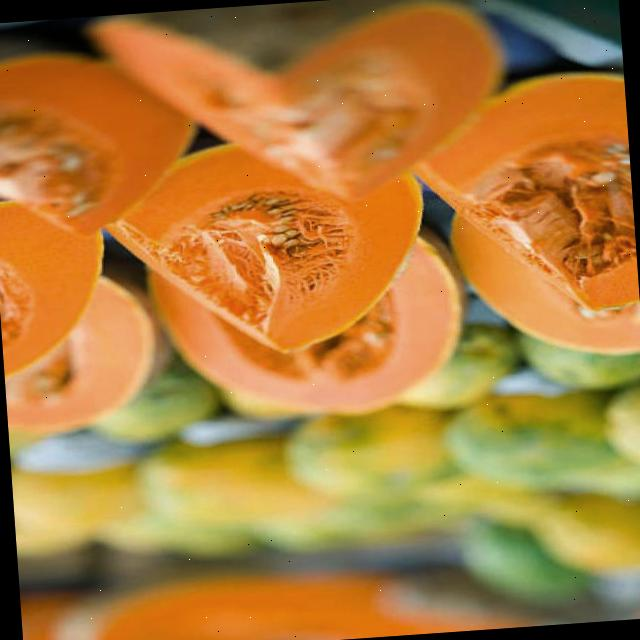Hami Melon: (94, 130, 442, 364), (145, 215, 467, 426), (406, 67, 640, 328)
